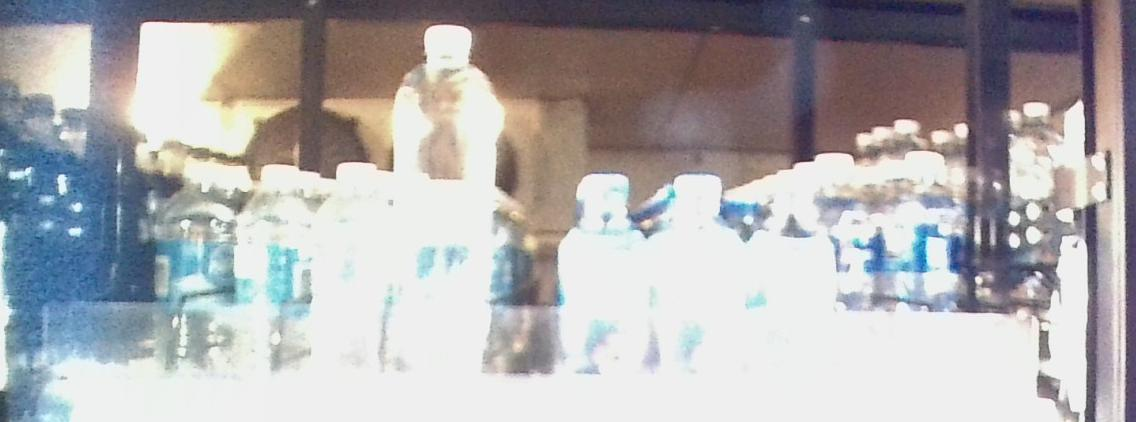bottle: (397, 20, 499, 399), (154, 153, 235, 397), (238, 147, 315, 398), (558, 171, 648, 382), (654, 173, 740, 393), (319, 159, 392, 401)
